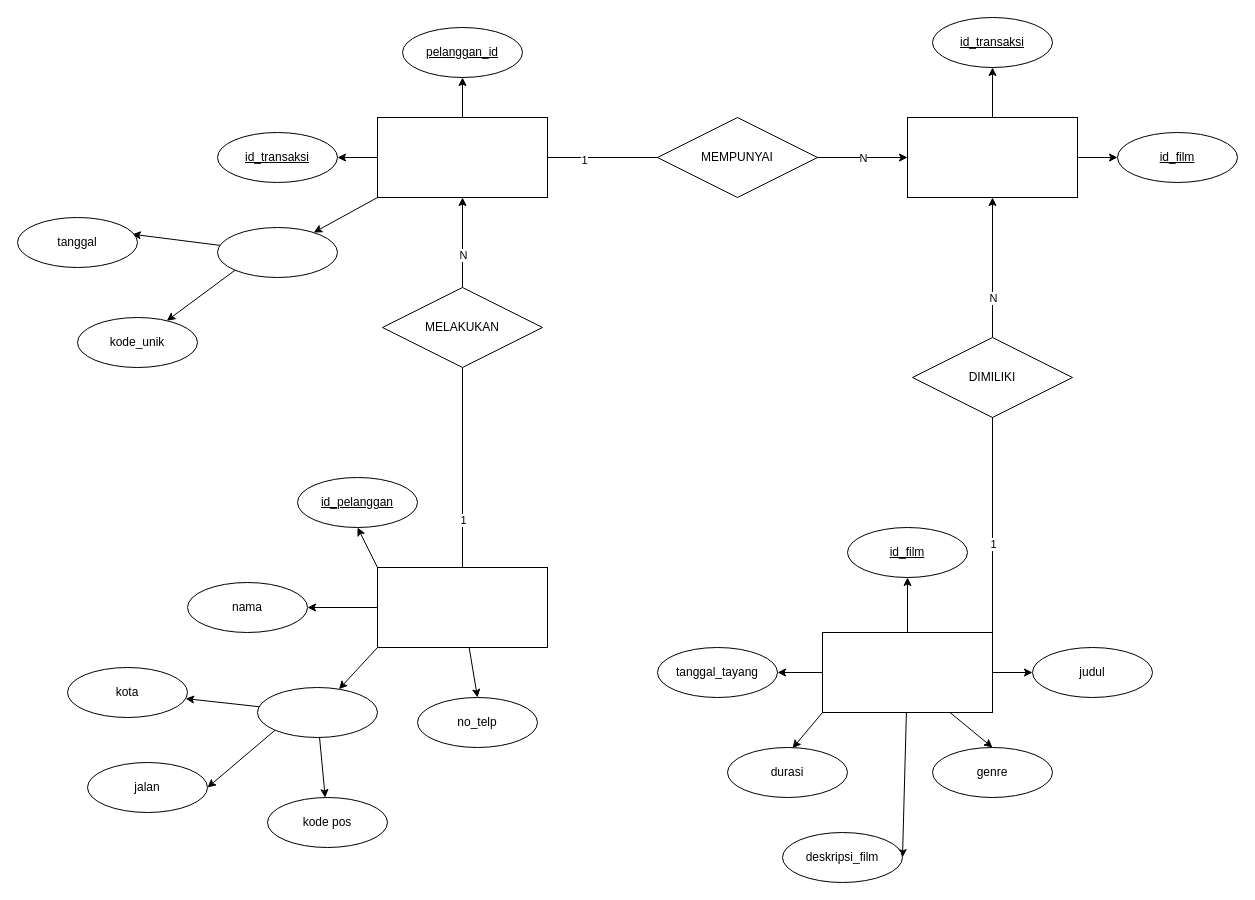
The diagram is 1255 pixels wide and 900 high, and some of its shapes have lost their labels. The centre of each missing label's shape, as x and y in pixels:
alamat: the point at 317,712
FILM: the point at 907,672
kode_transaksi: the point at 277,252
PELANGGAN: the point at 462,607
SUB_TRANSAKSI: the point at 992,157
TRANSAKSI: the point at 462,157
